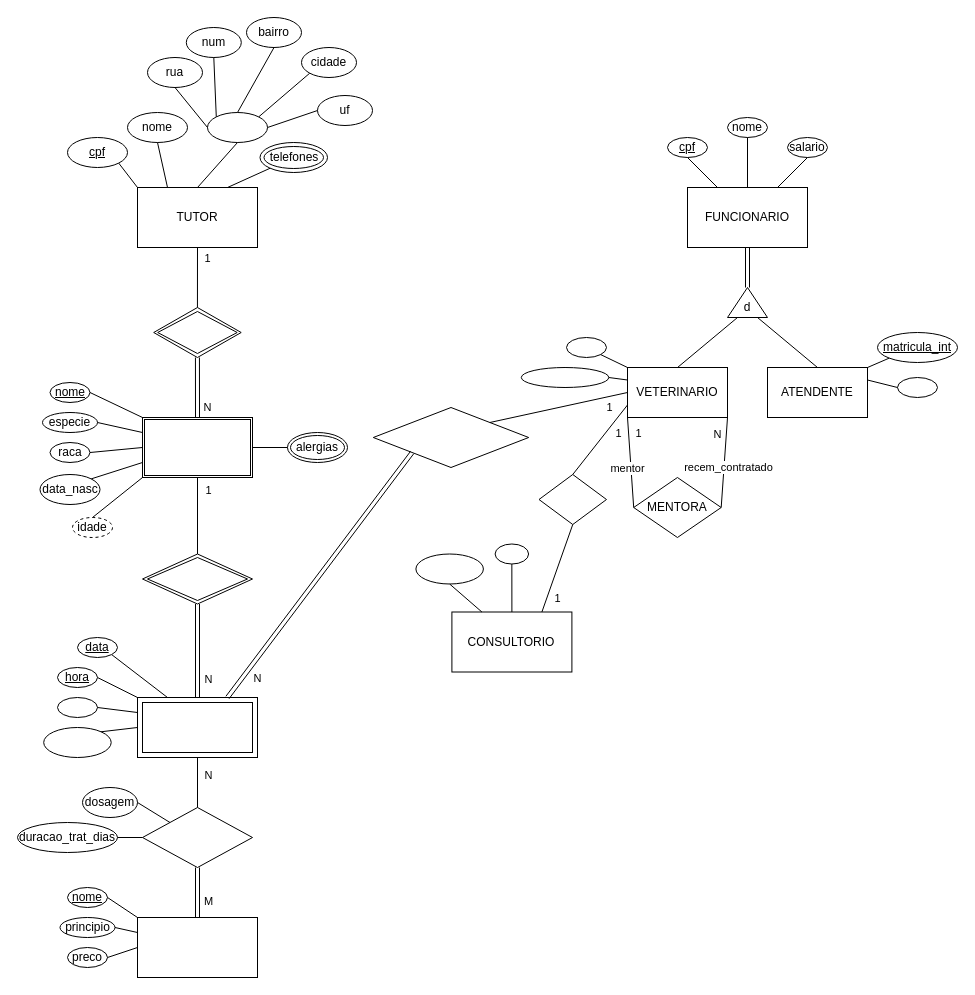
The diagram is 975 pixels wide and 995 high, and some of its shapes have lost their labels. The box of each missing label's shape, as (x1, y1, x2, y2) in pixels:
ala: (494, 543, 529, 564)
ANIMAL: (142, 416, 252, 478)
CONSULTA: (142, 702, 252, 752)
crmv: (566, 336, 606, 358)
diagnostico: (43, 726, 111, 758)
endereco: (206, 112, 268, 142)
especialidade: (520, 366, 609, 388)
MEDICAMENTO: (136, 916, 258, 978)
num_unico: (415, 553, 483, 584)
PASSA_POR: (146, 556, 248, 600)
peso: (56, 696, 98, 718)
POSSUI: (153, 306, 241, 358)
PREESCREVE: (142, 806, 252, 868)
RESPONSAVEL_POR: (372, 406, 529, 468)
TEM: (538, 474, 606, 524)
turno: (896, 376, 938, 398)
